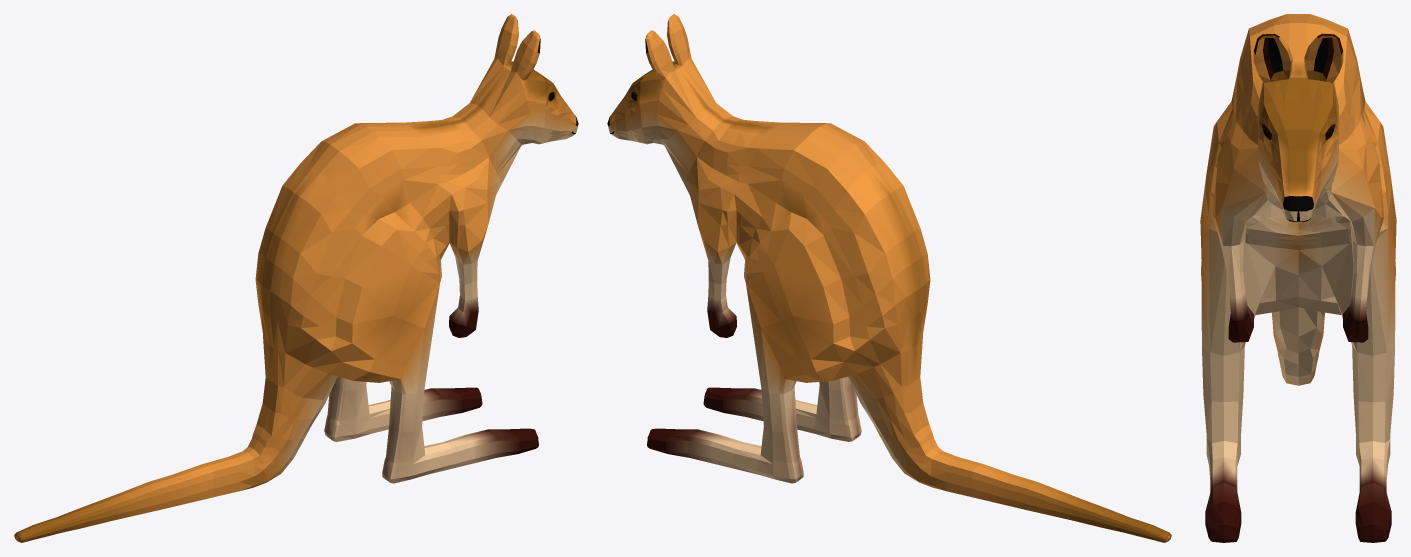
File: kangaroo.obj
3 renders of one model, left to right at view 1: azimuth 30°, elevation 25°; view 2: azimuth 150°, elevation 25°; view 3: azimuth 270°, elevation 25°, orthographic. The views are drawn at different scales.
Parts seen in each view (by area): view 1: Plane, Plane.002, Plane.003, Plane.001; view 2: Plane, Plane.002, Plane.003, Plane.001; view 3: Plane.002, Plane, Plane.001, Plane.003.
Part boxes in pixels (<box>): Plane: <box>255,116,501,380</box>; Plane.002: <box>324,181,538,483</box>; Plane.003: <box>14,340,337,542</box>; Plane.001: <box>453,14,578,182</box>; Plane: <box>684,116,930,380</box>; Plane.002: <box>647,182,861,483</box>; Plane.003: <box>848,340,1171,542</box>; Plane.001: <box>607,14,732,182</box>; Plane.002: <box>1200,101,1396,542</box>; Plane: <box>1222,14,1374,314</box>; Plane.001: <box>1253,33,1343,222</box>; Plane.003: <box>1272,307,1324,385</box>.
Size of the model in its own units: 2.39 by 1.62 by 0.5499.
Materials: 7 (3 with a texture image).
